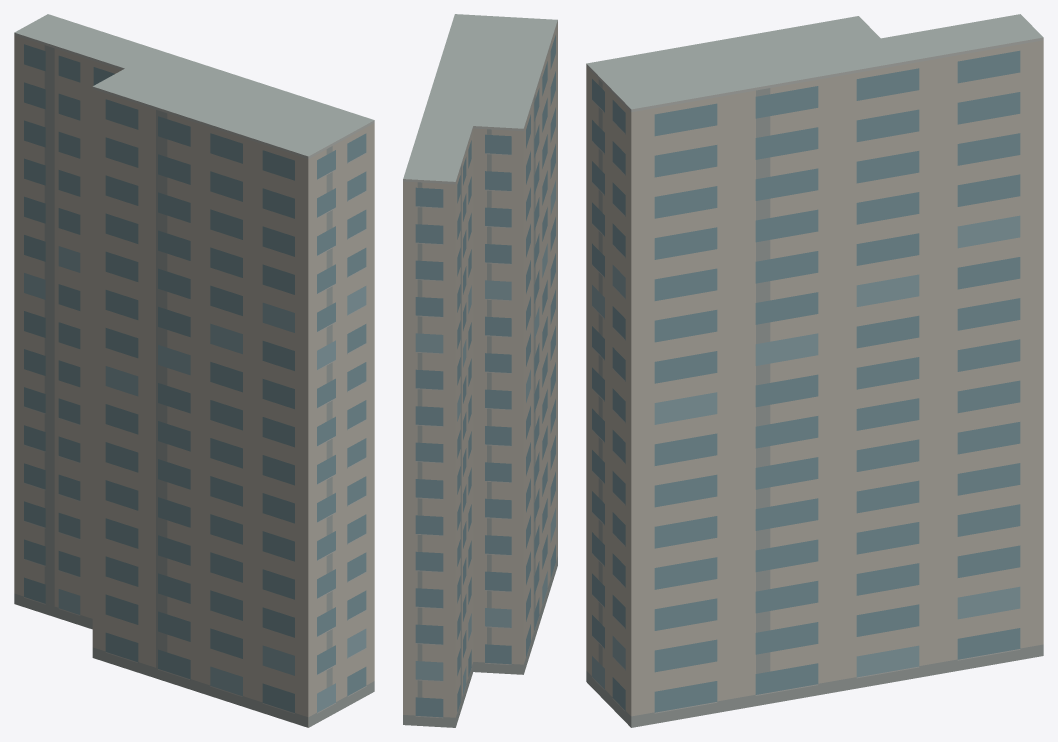
File: residential-ce37bda8-de93-4564-8b50-00994afb4097.glb
3 renders of one model, left to right at view 1: azimuth 30°, elevation 25°; view 2: azimuth 150°, elevation 25°; view 3: azimuth 270°, elevation 25°, orthographic. The views are drawn at different scales.
Visible parts, largest first — view 1: residential-ce37bda8-de93-4564-8b50-00994afb4097.tmp; view 2: residential-ce37bda8-de93-4564-8b50-00994afb4097.tmp; view 3: residential-ce37bda8-de93-4564-8b50-00994afb4097.tmp.
Part boxes in pixels (box(x1,y1,x2,y2)): residential-ce37bda8-de93-4564-8b50-00994afb4097.tmp: box(14, 14, 374, 727); residential-ce37bda8-de93-4564-8b50-00994afb4097.tmp: box(403, 14, 557, 727); residential-ce37bda8-de93-4564-8b50-00994afb4097.tmp: box(586, 14, 1043, 727).
Size of the model in its own units: 17.55 by 53 by 35.51.
